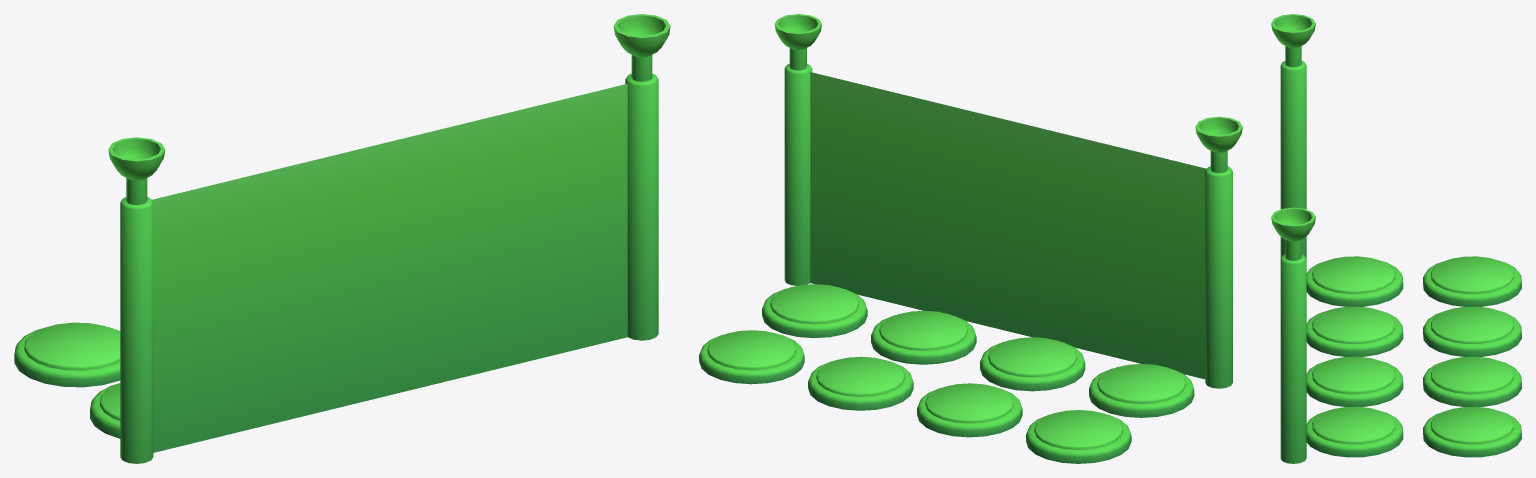
Rendered from clone zone.fbx.
3 renders of one model, left to right at view 1: azimuth 30°, elevation 25°; view 2: azimuth 150°, elevation 25°; view 3: azimuth 270°, elevation 25°, orthographic. The views are drawn at different scales.
Parts seen in each view (by area): view 1: Plane.003, Circle.006, Circle.007; view 2: Plane.003, Circle.007, Circle.006; view 3: Circle.007, Circle.006.
Boxes of the visible parts, left/top/right/bottom form: Plane.003: left=152, top=84, right=627, bottom=452; Circle.006: left=108, top=14, right=670, bottom=463; Circle.007: left=14, top=322, right=120, bottom=438; Plane.003: left=810, top=72, right=1206, bottom=379; Circle.007: left=699, top=284, right=1194, bottom=463; Circle.006: left=774, top=14, right=1242, bottom=388; Circle.007: left=1306, top=256, right=1521, bottom=457; Circle.006: left=1271, top=14, right=1315, bottom=463.
Size of the model in its own units: 411 by 218 by 205.
